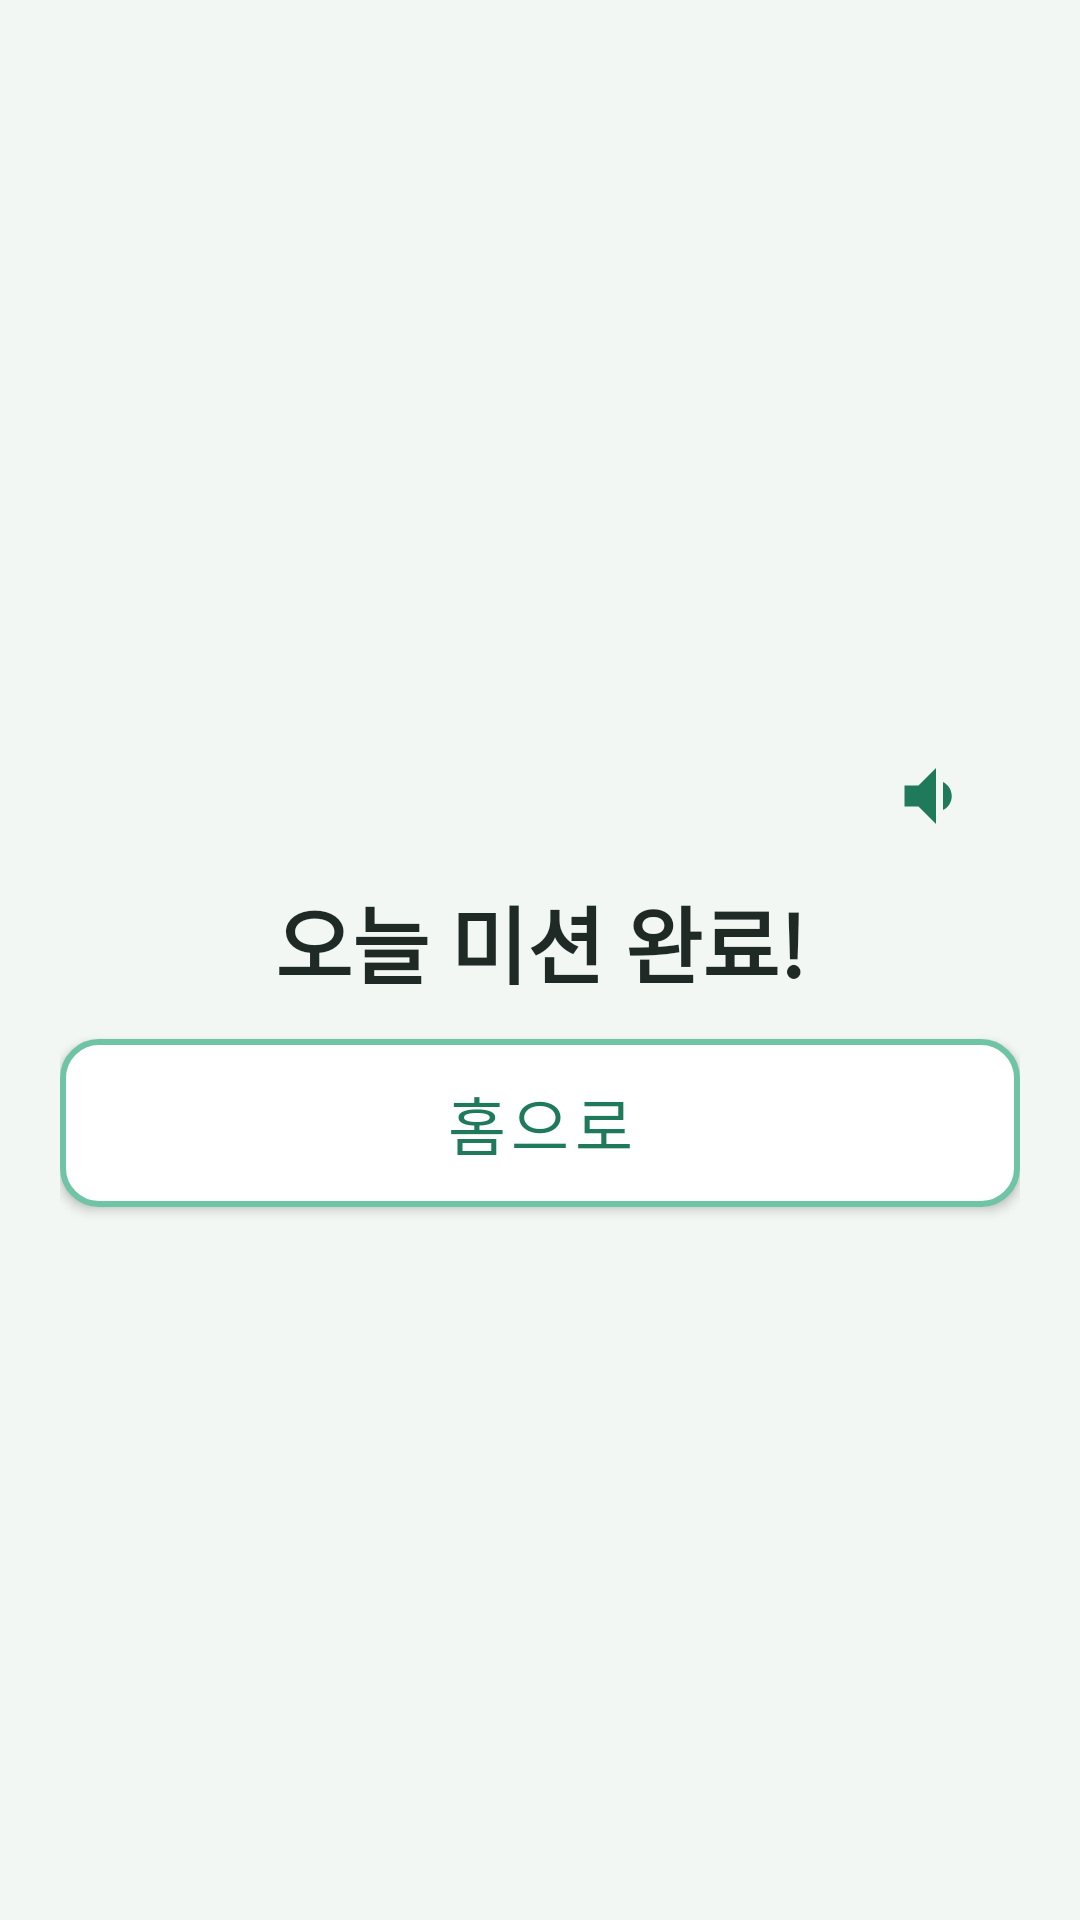

Icon click points for this 1080 x 1920 phone screenshot, format (x,y):
speaker: (928,796)
